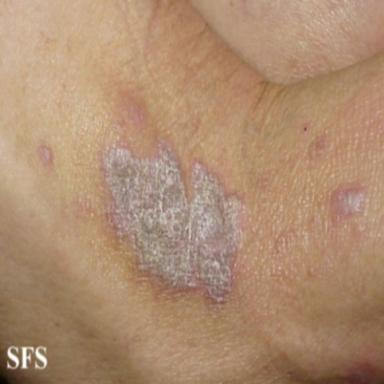lichen: (103, 140, 244, 302), (331, 187, 366, 223), (38, 145, 53, 164)
